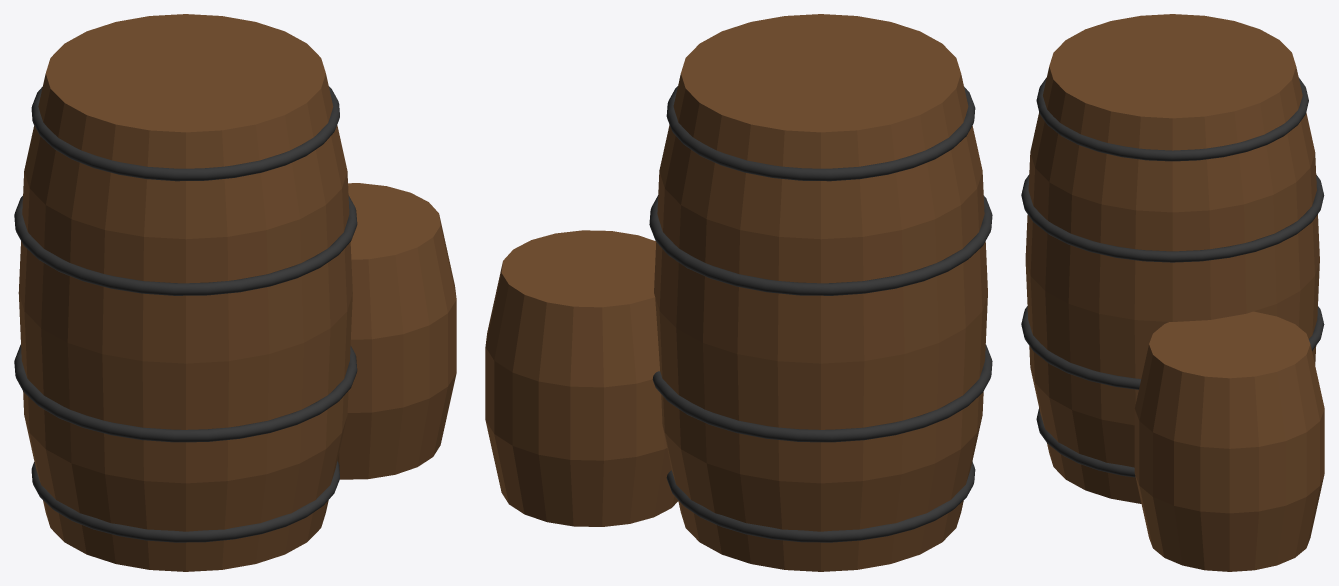
The model's file is barrel.glb.
3 renders of one model, left to right at view 1: azimuth 30°, elevation 25°; view 2: azimuth 150°, elevation 25°; view 3: azimuth 270°, elevation 25°, orthographic. The views are drawn at different scales.
Visible parts, largest first — view 1: barrel; view 2: barrel; view 3: barrel.
Boxes of the visible parts, box(x1,y1,x2,y2) form: barrel: box(14, 14, 456, 571); barrel: box(485, 14, 992, 571); barrel: box(1021, 14, 1324, 571).
Bounding box in the file's own units: 0.939 × 0.9 × 0.639.
